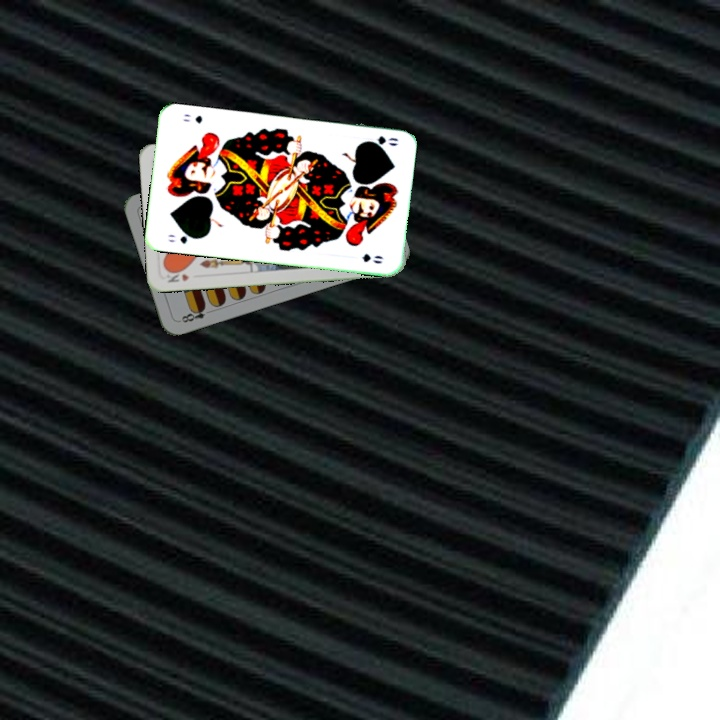E8: (175, 302, 215, 325)
GO: (360, 132, 401, 150), (163, 229, 200, 247)
HK: (163, 266, 192, 285)
